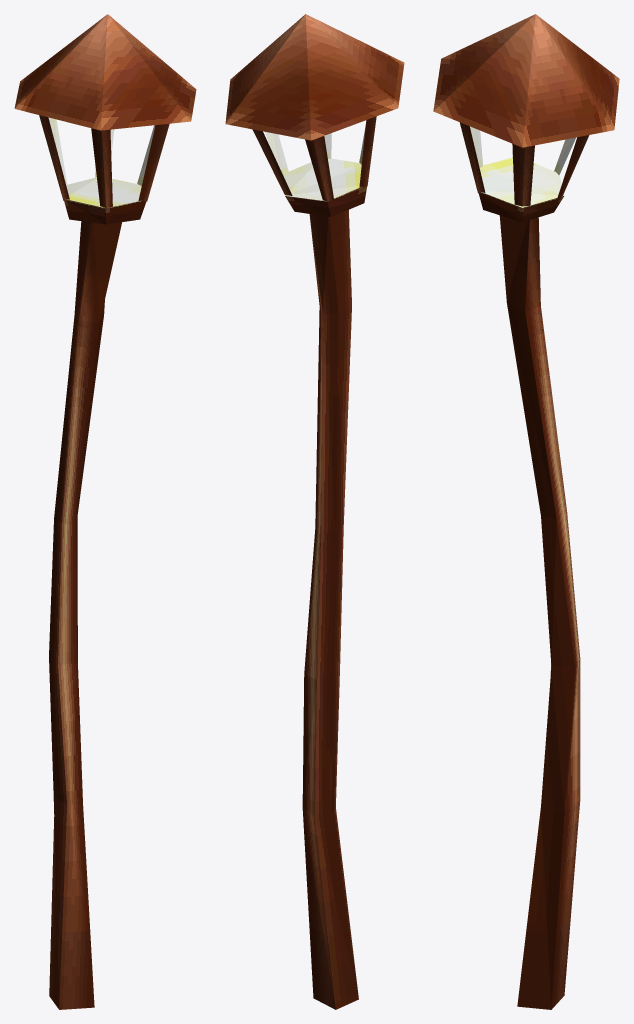
File: C1SMPOLELIGHT01.obj
3 views of the same model, side by side, from view 1: azimuth 30°, elevation 25°; view 2: azimuth 150°, elevation 25°; view 3: azimuth 270°, elevation 25° (orthographic). The views are drawn at different scales.
Visible parts, largest first — view 1: Node 0; view 2: Node 0; view 3: Node 0.
Boxes of the visible parts, <box> form: Node 0: <box>14,14,196,1009</box>; Node 0: <box>225,14,404,1009</box>; Node 0: <box>433,14,619,1009</box>.
Bounding box in the file's own units: 0.79 × 4.22 × 0.71.
Materials: 1 (1 with a texture image).
